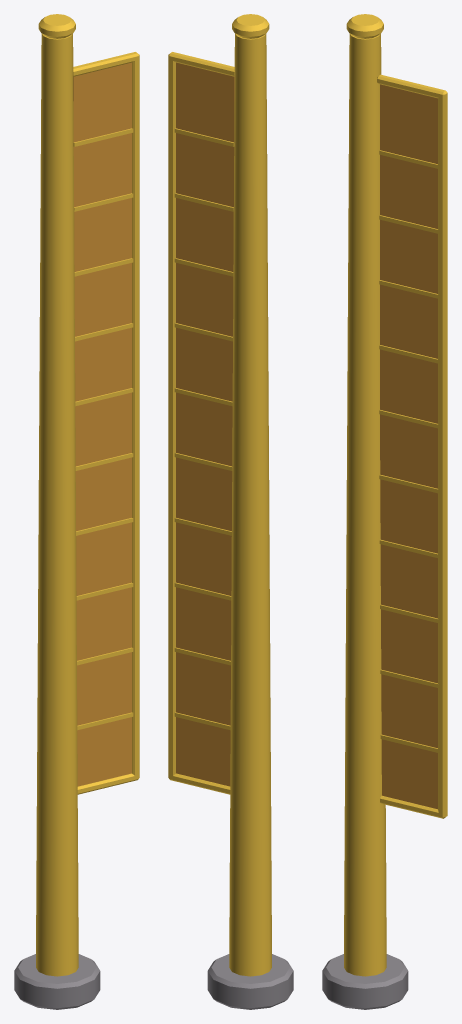
File: foul_pole.glb
3 renders of one model, left to right at view 1: azimuth 30°, elevation 25°; view 2: azimuth 150°, elevation 25°; view 3: azimuth 330°, elevation 25°, orthographic.
Parts seen in each view (by area): view 1: foul_pole; view 2: foul_pole; view 3: foul_pole.
Part boxes in pixels (<box>): foul_pole: <box>14,14,139,1009</box>; foul_pole: <box>168,14,293,1009</box>; foul_pole: <box>322,14,447,1009</box>.
Bounding box in the file's own units: 1.91 × 15 × 1.2.
Materials: 1 (1 with a texture image).
